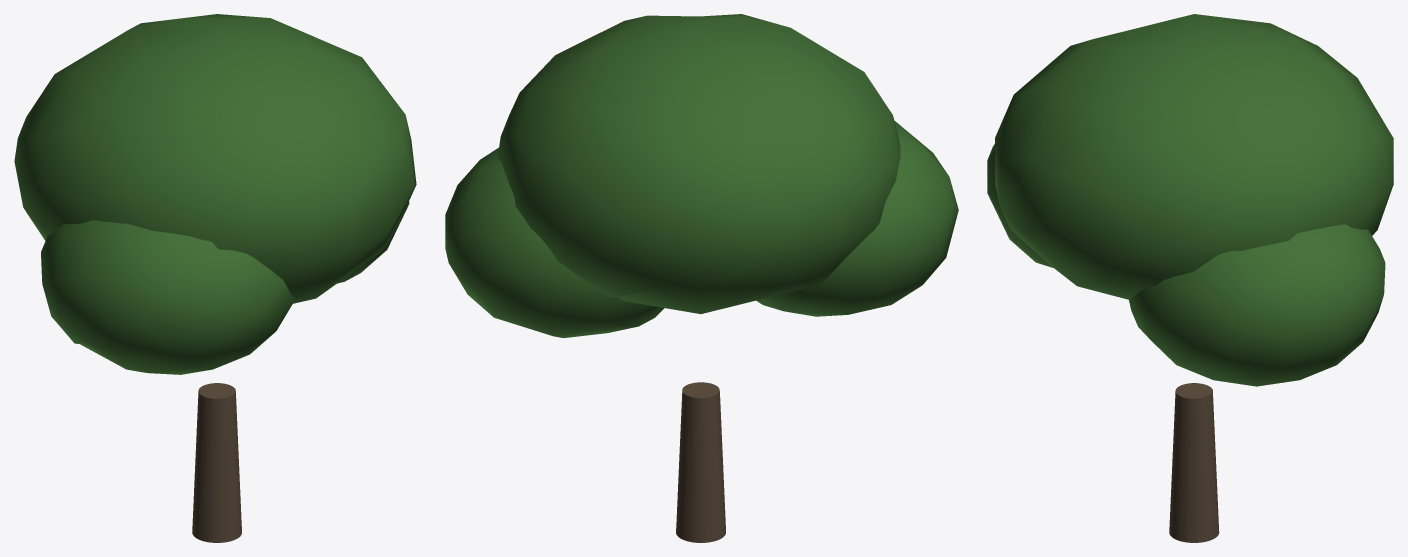
The model's file is e04-english-oak.lod1.glb.
The picture shows the model from 3 angles, left to right: view 1: azimuth 30°, elevation 25°; view 2: azimuth 150°, elevation 25°; view 3: azimuth 270°, elevation 25°; orthographic projection.
Parts seen in each view (by area): view 1: part1, part3, part0; view 2: part1, part2, part3, part0; view 3: part1, part2, part0, part3.
Boxes of the visible parts, x1,y1,x2,y2 form: part1: (14, 14, 416, 303); part3: (41, 220, 295, 374); part0: (192, 383, 241, 542); part1: (497, 14, 900, 313); part2: (445, 147, 664, 338); part3: (756, 121, 958, 316); part0: (676, 382, 725, 542); part1: (995, 14, 1393, 299); part2: (1129, 224, 1385, 386); part0: (1169, 383, 1219, 542); part3: (987, 144, 1053, 267).
Bounding box in the file's own units: 15027 × 17486 × 13014.
